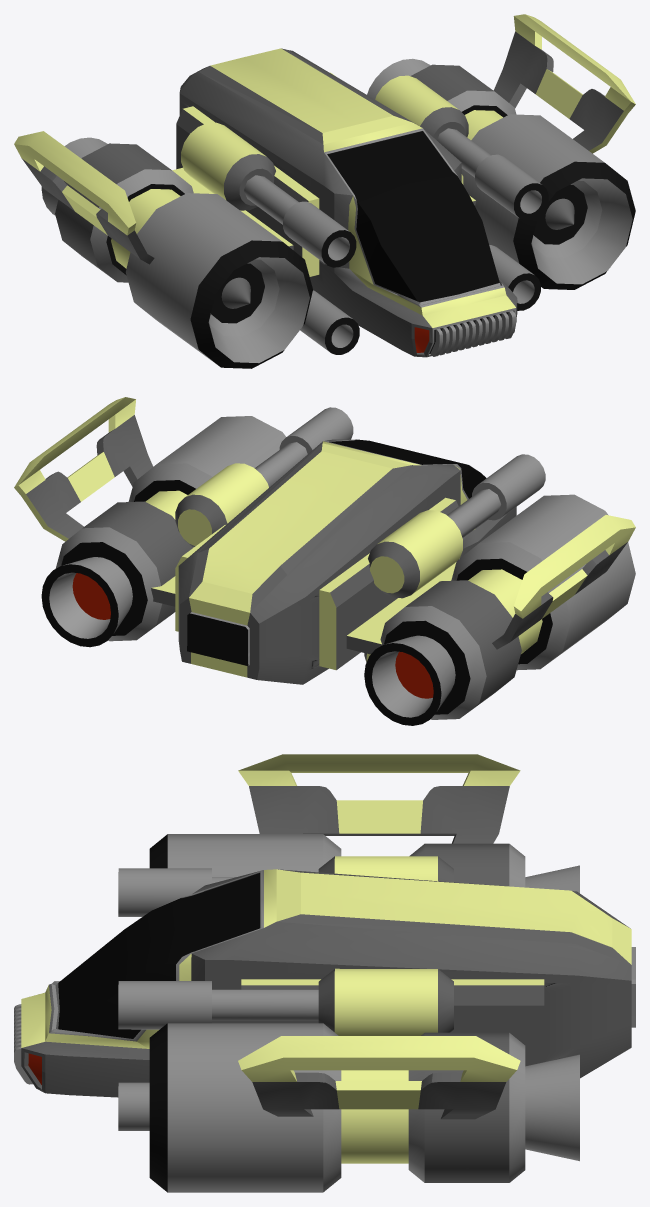
Rendered from ship02export.FBX.
The picture shows the model from 3 angles, top to bottom: view 1: azimuth 30°, elevation 25°; view 2: azimuth 150°, elevation 25°; view 3: azimuth 270°, elevation 25°; orthographic projection. The views are drawn at different scales.
Parts seen in each view (by area): view 1: body, rightEngine, leftEngine, topGunRight, LeftWing, topGunLeft, rightWing, topGunRight001, topGunLeft001; view 2: body, rightEngine, leftEngine, topGunRight, LeftWing, topGunLeft, rightWing; view 3: body, leftEngine, LeftWing, rightWing, topGunLeft, rightEngine, topGunRight, topGunLeft001.
Boxes of the visible parts, x1,y1,x2,y2 form: body: (172, 48, 517, 357); rightEngine: (41, 137, 312, 368); leftEngine: (367, 58, 635, 289); topGunRight: (181, 122, 356, 267); LeftWing: (493, 14, 635, 153); topGunLeft: (375, 75, 548, 220); rightWing: (14, 131, 154, 264); topGunRight001: (300, 290, 359, 354); topGunLeft001: (489, 245, 540, 310); body: (151, 439, 516, 684); rightEngine: (364, 494, 635, 725); leftEngine: (41, 416, 285, 647); topGunRight: (368, 454, 545, 598); LeftWing: (14, 397, 153, 541); topGunLeft: (175, 407, 353, 547); rightWing: (492, 515, 635, 649); body: (14, 869, 635, 1097); leftEngine: (149, 1023, 579, 1192); LeftWing: (238, 1036, 520, 1119); rightWing: (238, 754, 520, 843); topGunLeft: (118, 968, 453, 1035); rightEngine: (149, 834, 579, 893); topGunRight: (118, 856, 453, 916); topGunLeft001: (118, 1082, 149, 1130).
Size of the model in its own units: 77.98 by 23.92 by 68.35.
